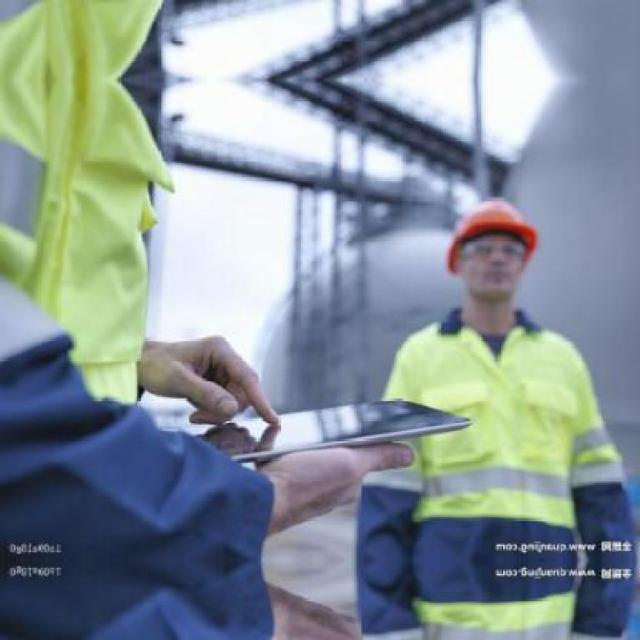Reflective-Jacket: (4, 0, 184, 423), (370, 314, 628, 548)
Safety-Helmet: (429, 184, 554, 278)
